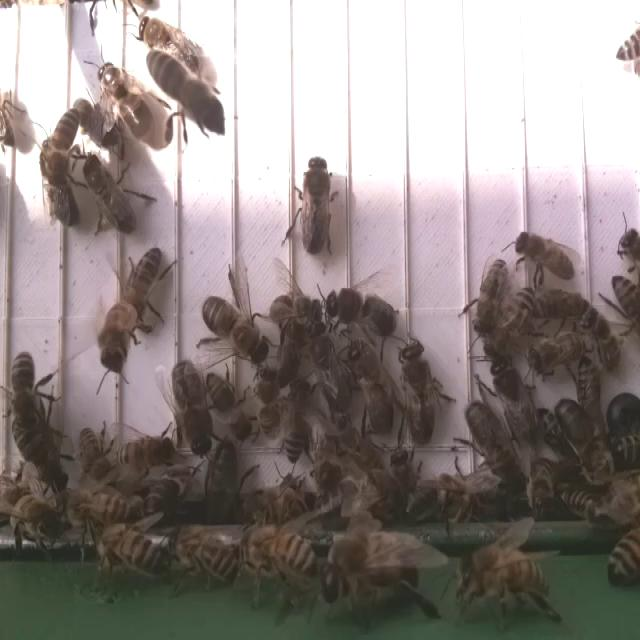Drone: (197, 294, 274, 369), (465, 398, 526, 490), (488, 353, 543, 454), (344, 337, 396, 442), (95, 58, 156, 146), (81, 148, 139, 236), (169, 356, 215, 459), (400, 338, 440, 452), (298, 150, 334, 258), (326, 286, 398, 339)
Worker: (207, 369, 257, 444), (122, 243, 167, 323), (470, 255, 509, 340), (512, 227, 577, 278), (44, 100, 84, 182), (114, 429, 178, 480), (282, 376, 311, 469), (8, 347, 38, 424)
